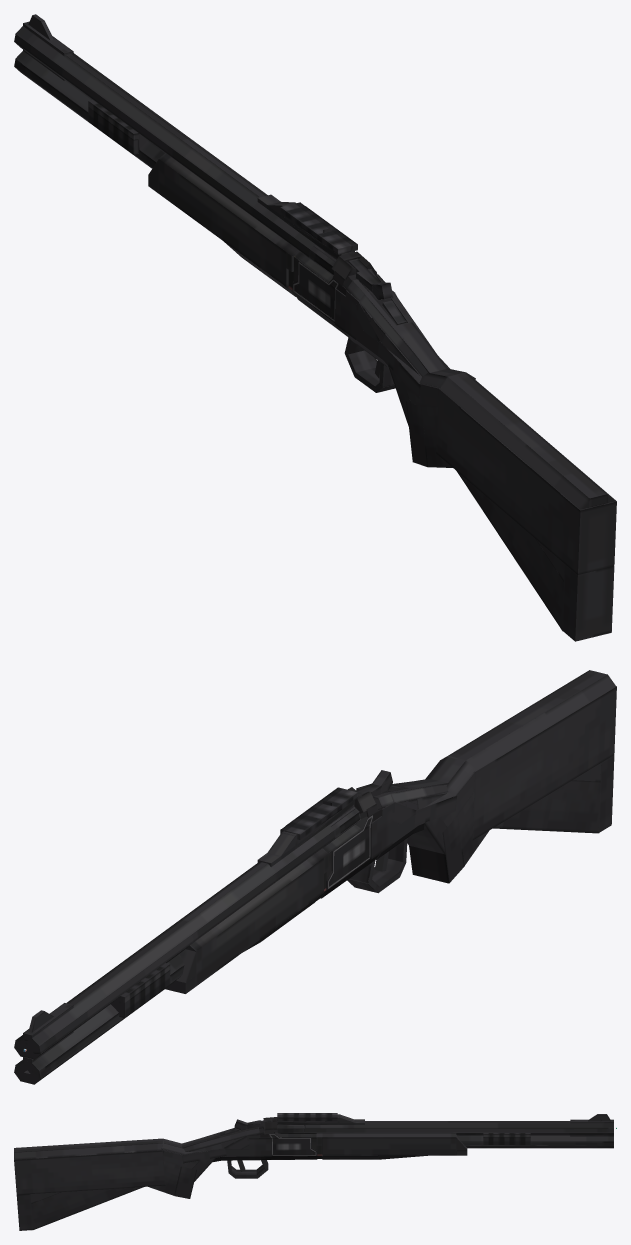
The picture shows the model from 3 angles, top to bottom: view 1: azimuth 30°, elevation 25°; view 2: azimuth 150°, elevation 25°; view 3: azimuth 270°, elevation 25°; orthographic projection. The views are drawn at different scales.
Parts seen in each view (by area): view 1: gun, barrels, barrel1, barrel2; view 2: gun, barrel1, barrels, barrel2; view 3: gun, barrels, barrel1, barrel2, bone.
Part boxes in pixels (x1=…): gun: x1=292, y1=251, x2=616, y2=641; barrels: x1=28, y1=14, x2=357, y2=296; barrel1: x1=14, y1=21, x2=354, y2=275; barrel2: x1=14, y1=51, x2=164, y2=168; gun: x1=321, y1=670, x2=616, y2=898; barrel1: x1=14, y1=801, x2=360, y2=1062; barrels: x1=28, y1=787, x2=361, y2=1032; barrel2: x1=14, y1=954, x2=184, y2=1084; gun: x1=14, y1=1117, x2=317, y2=1230; barrels: x1=277, y1=1113, x2=610, y2=1159; barrel1: x1=277, y1=1114, x2=613, y2=1136; barrel2: x1=458, y1=1135, x2=613, y2=1148; bone: x1=234, y1=1119, x2=271, y2=1130.
Bounding box in the file's own units: 25.67 × 140 × 682.
